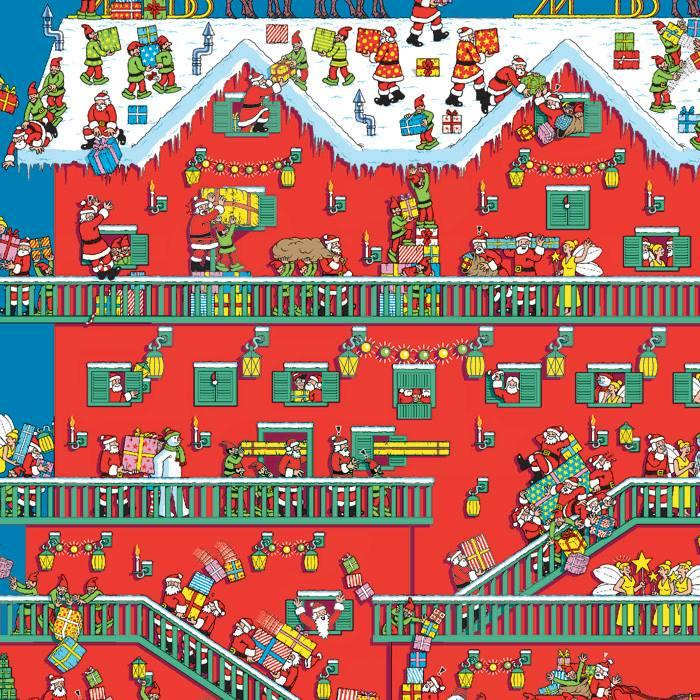waldo: (292, 371, 307, 389)
